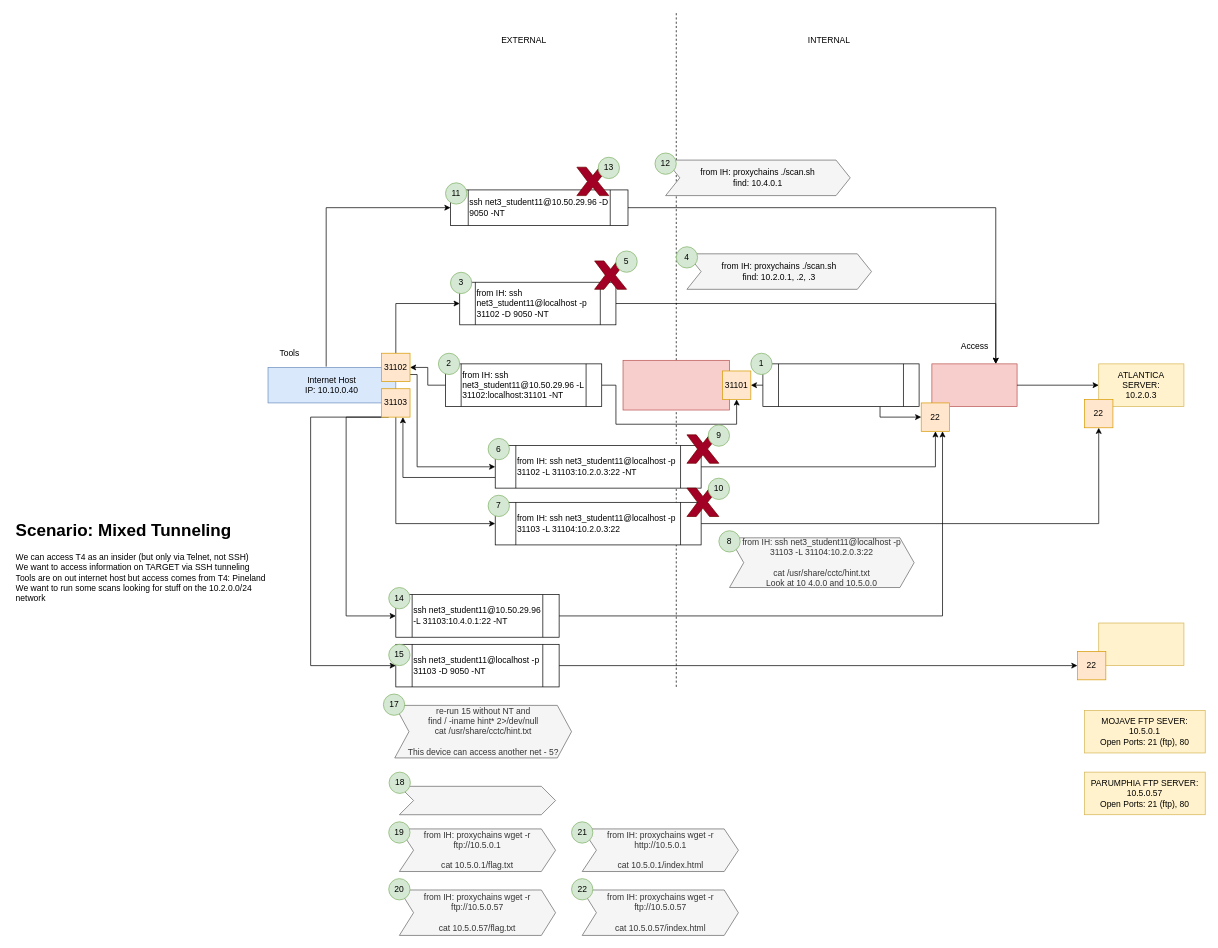
Some shapes in this 1218 by 948 pixel diagram are drawn without their labels. Each missing label, with the centre of its shape:
BAJA REPUBLIC PIVOT: 10.4.0.1 Open Ports: 22: point (1141, 644)
from IH: proxychains ./scan.sh find: 10.5.0.1, .57: point (477, 800)
T3: Atropia Internal: 10.3.0.10 External: 10.50.29.96: point (676, 385)
T4: Pineland IP: 10.50.21.23: point (974, 384)
Telnet into T4 then ssh -R 31101:localhost:22 net3_student11@10.3.0.10 -NT: point (840, 384)
